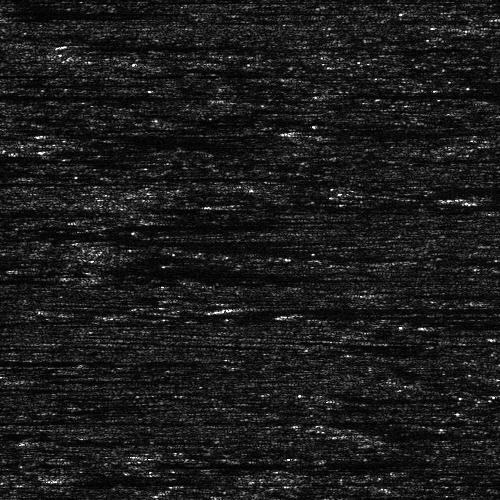object: (0, 467, 133, 484), (192, 202, 275, 207), (105, 460, 178, 465), (478, 201, 500, 216)
shadow: (66, 467, 193, 484), (234, 202, 500, 207), (142, 460, 273, 465)
